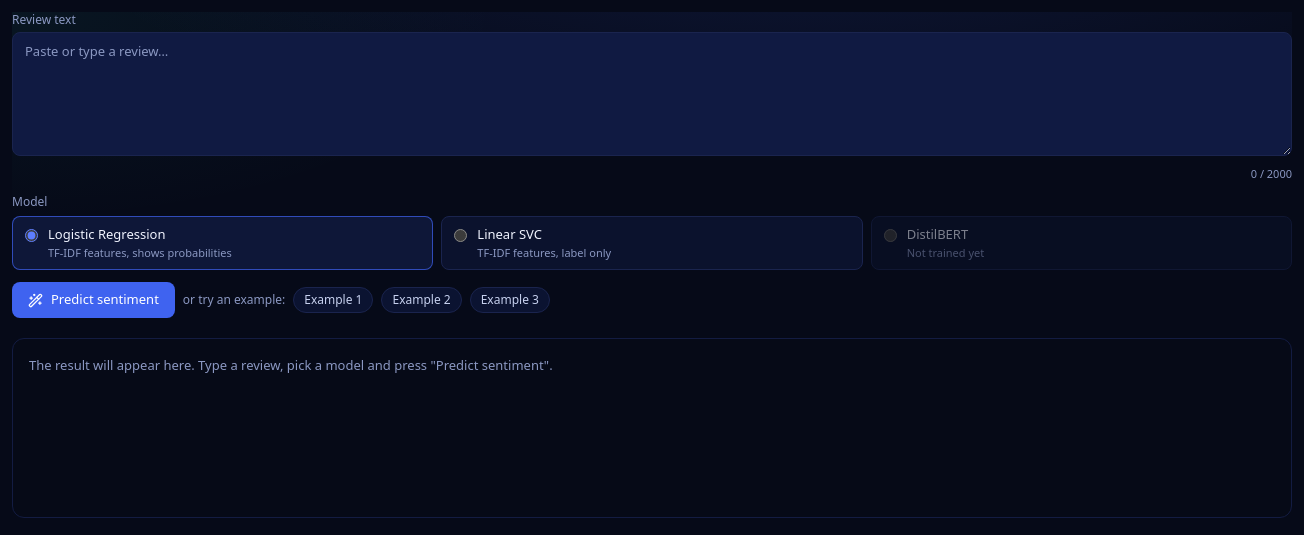
Test case: PredictForm › explains that Linear SVC returns no probabilities
In the text box labelled "Review text": [652, 94] box [12,32,1292,156], type "Works great"
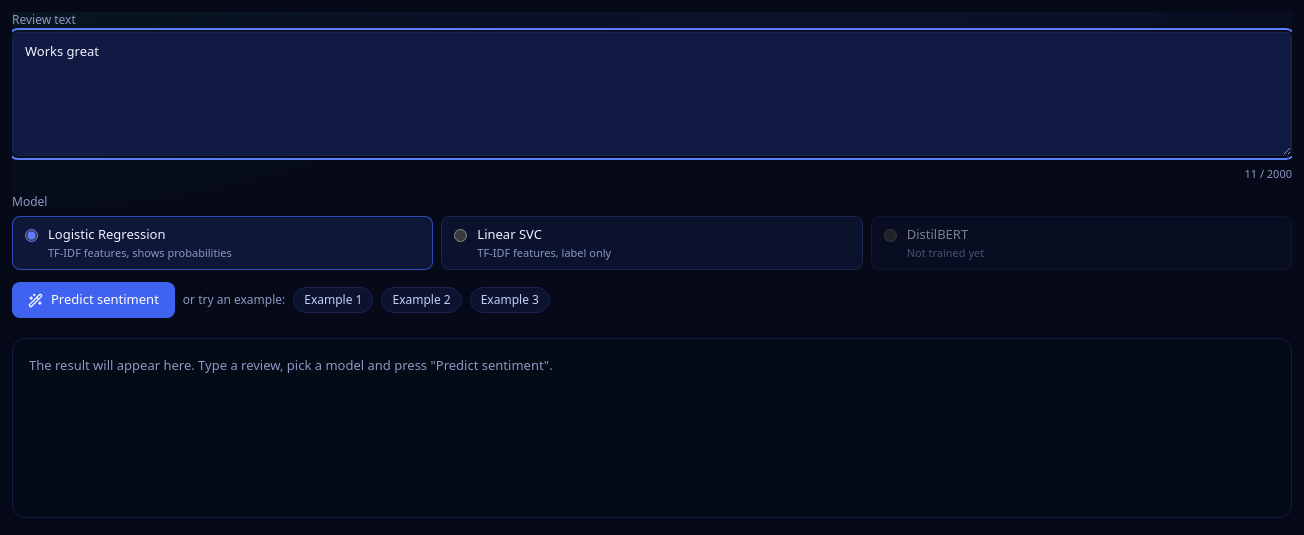
Click the radio button labelled "Linear SVC TF-IDF features, label only": [461, 236] box [454,229,467,242]
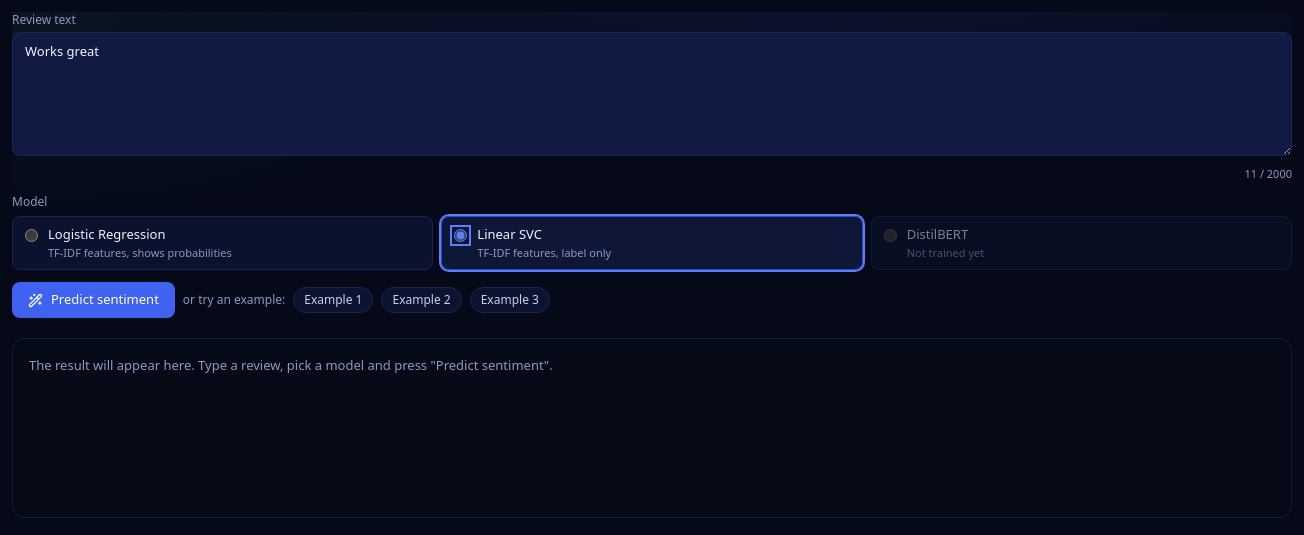
Click the button "Predict sentiment": [93, 300] box [12,282,175,318]
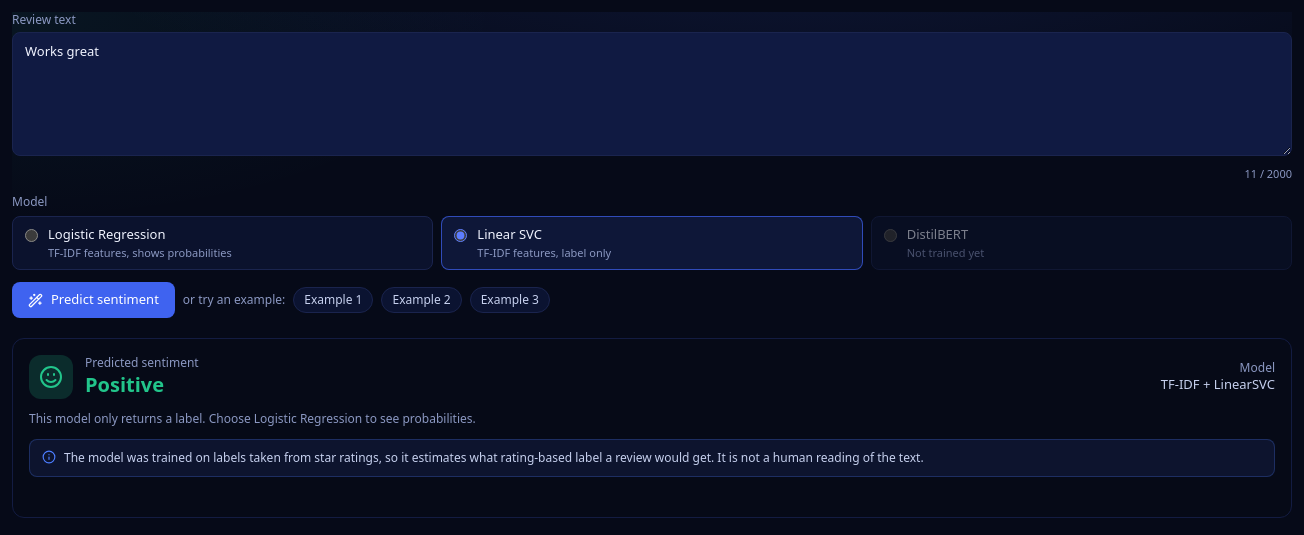
Result: the text "only returns a label" is shown at [29,410,476,427]
